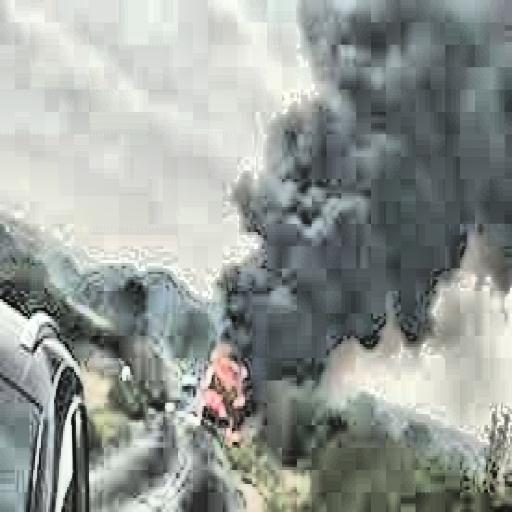fire: (195, 338, 256, 445)
